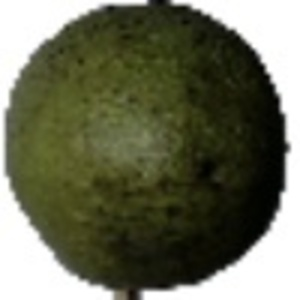abacate: (3, 3, 292, 293)
